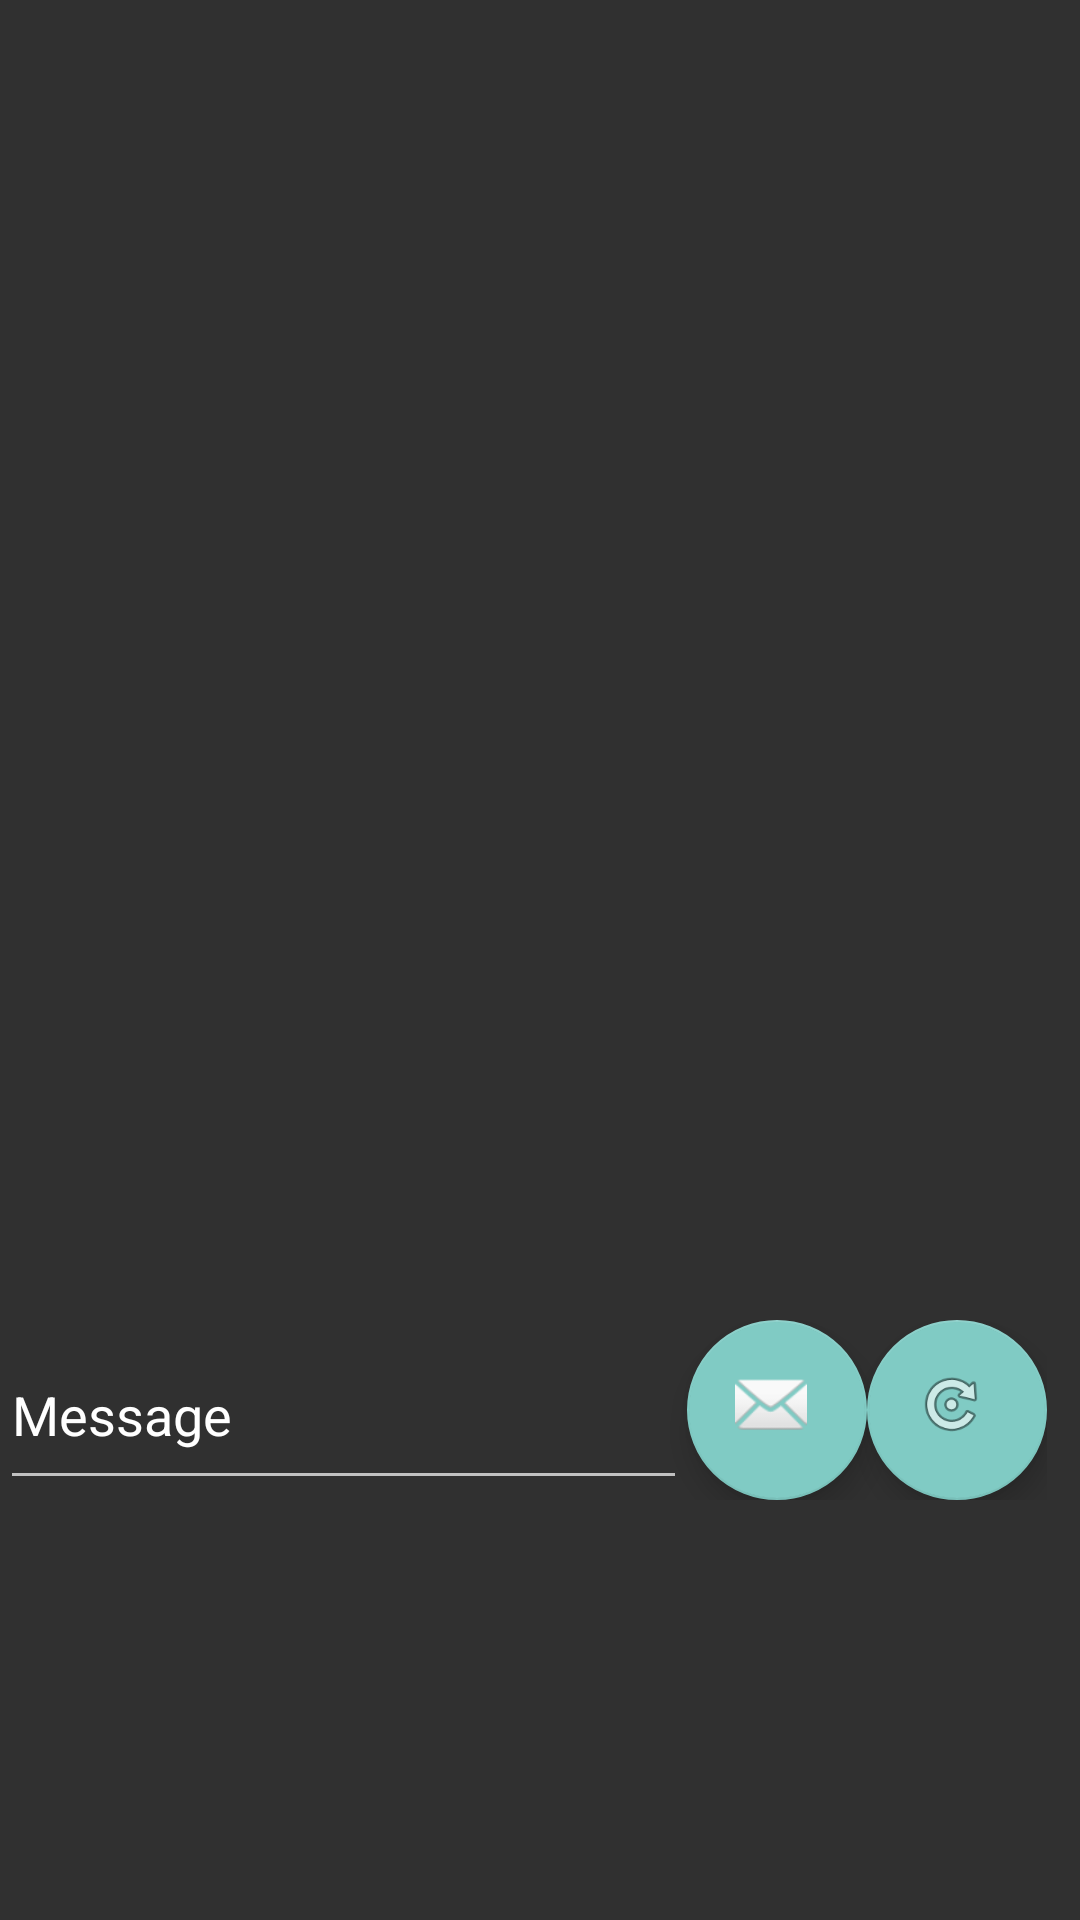

Icon click points for this 1080w x 1920h phone screenshot, format (x=x, y=y):
email: (x=777, y=1410)
rotate: (x=957, y=1410)
